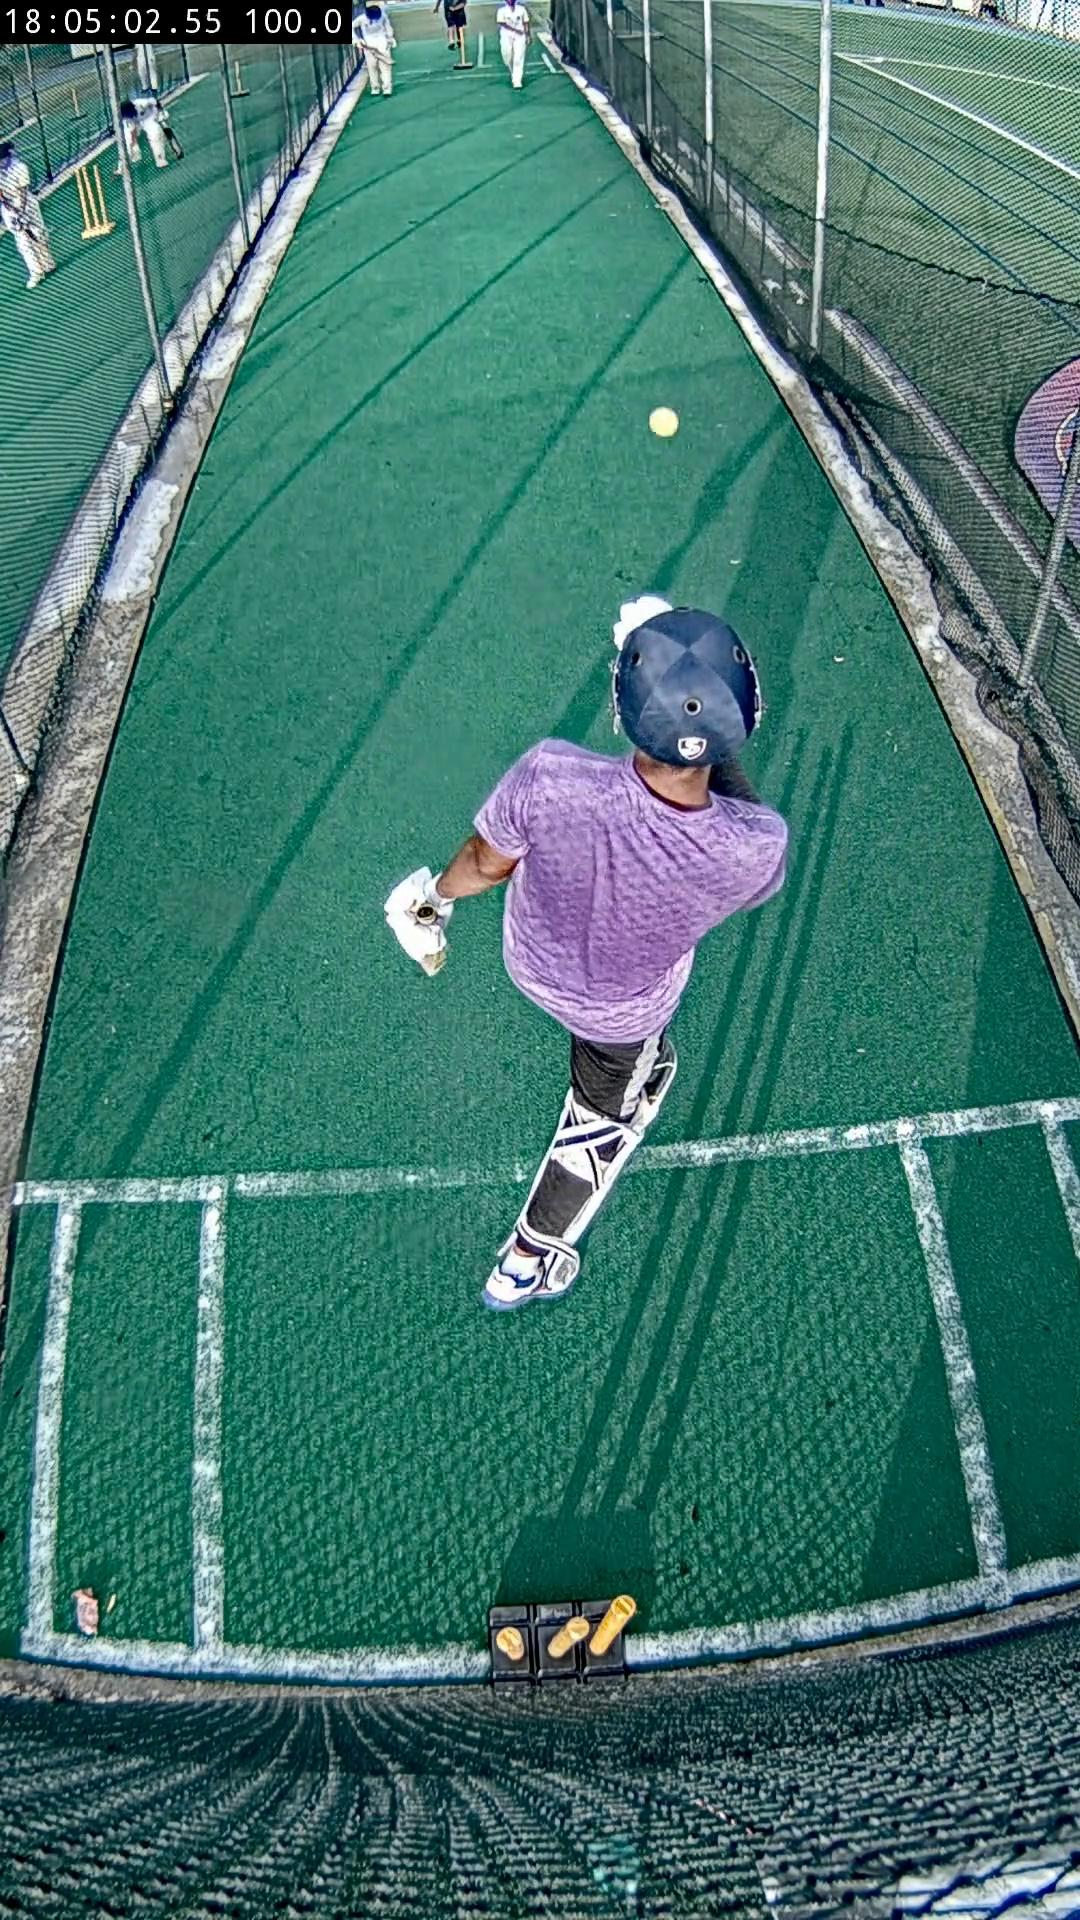ball: (649, 409, 679, 439)
bat: (419, 952, 446, 975)
gloves: (382, 866, 454, 960), (612, 592, 671, 647)
helmet: (615, 604, 761, 765)
stumps: (488, 1594, 637, 1681)
